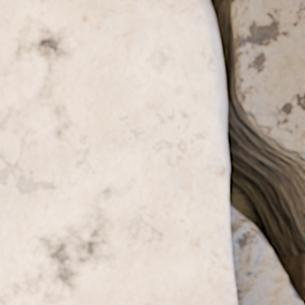brick: (0, 0, 236, 304)
crack: (209, 0, 304, 304)
